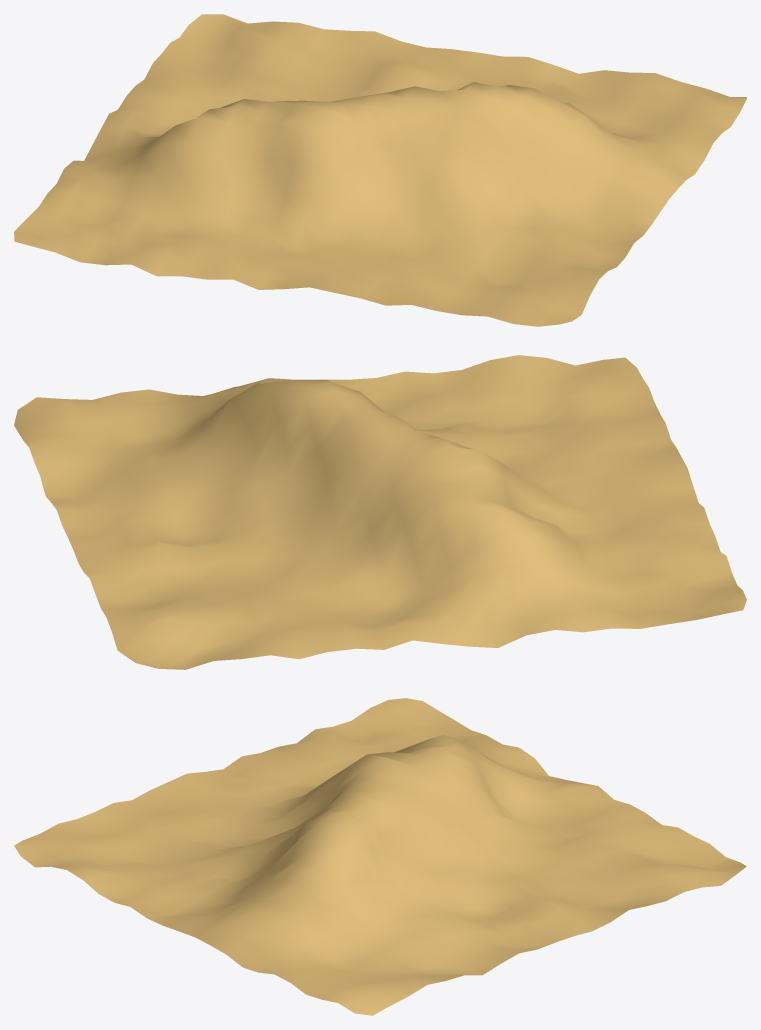
Rendered from sand_2.fbx.
The picture shows the model from 3 angles, top to bottom: view 1: azimuth 30°, elevation 25°; view 2: azimuth 150°, elevation 25°; view 3: azimuth 270°, elevation 25°; orthographic projection. The views are drawn at different scales.
Visible parts, largest first — view 1: Sol.001; view 2: Sol.001; view 3: Sol.001.
Boxes of the visible parts, x1,y1,x2,y2 form: Sol.001: [14, 14, 746, 326]; Sol.001: [14, 355, 746, 669]; Sol.001: [14, 698, 746, 1015].
Size of the model in its own units: 2796 by 351 by 2796.
